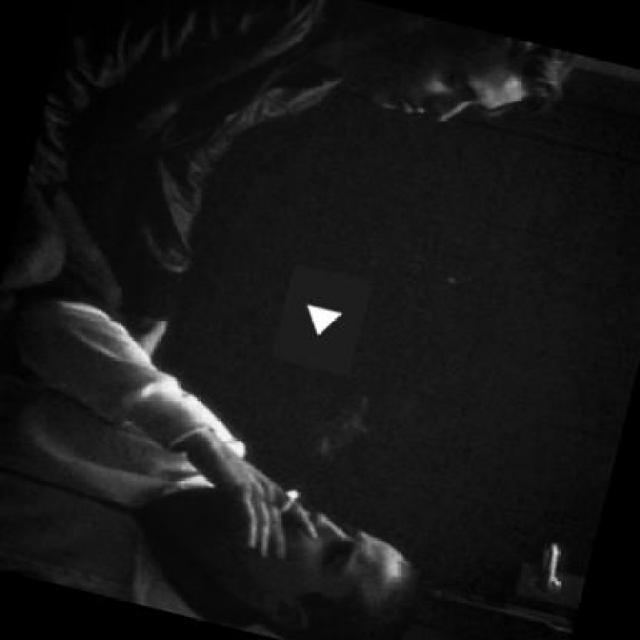smoke: (276, 486, 301, 517)
